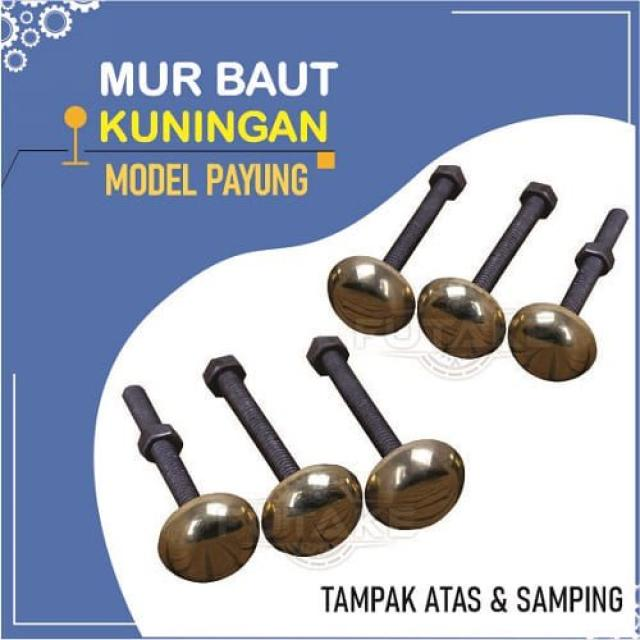Logam: (96, 371, 468, 579), (317, 141, 626, 365)
